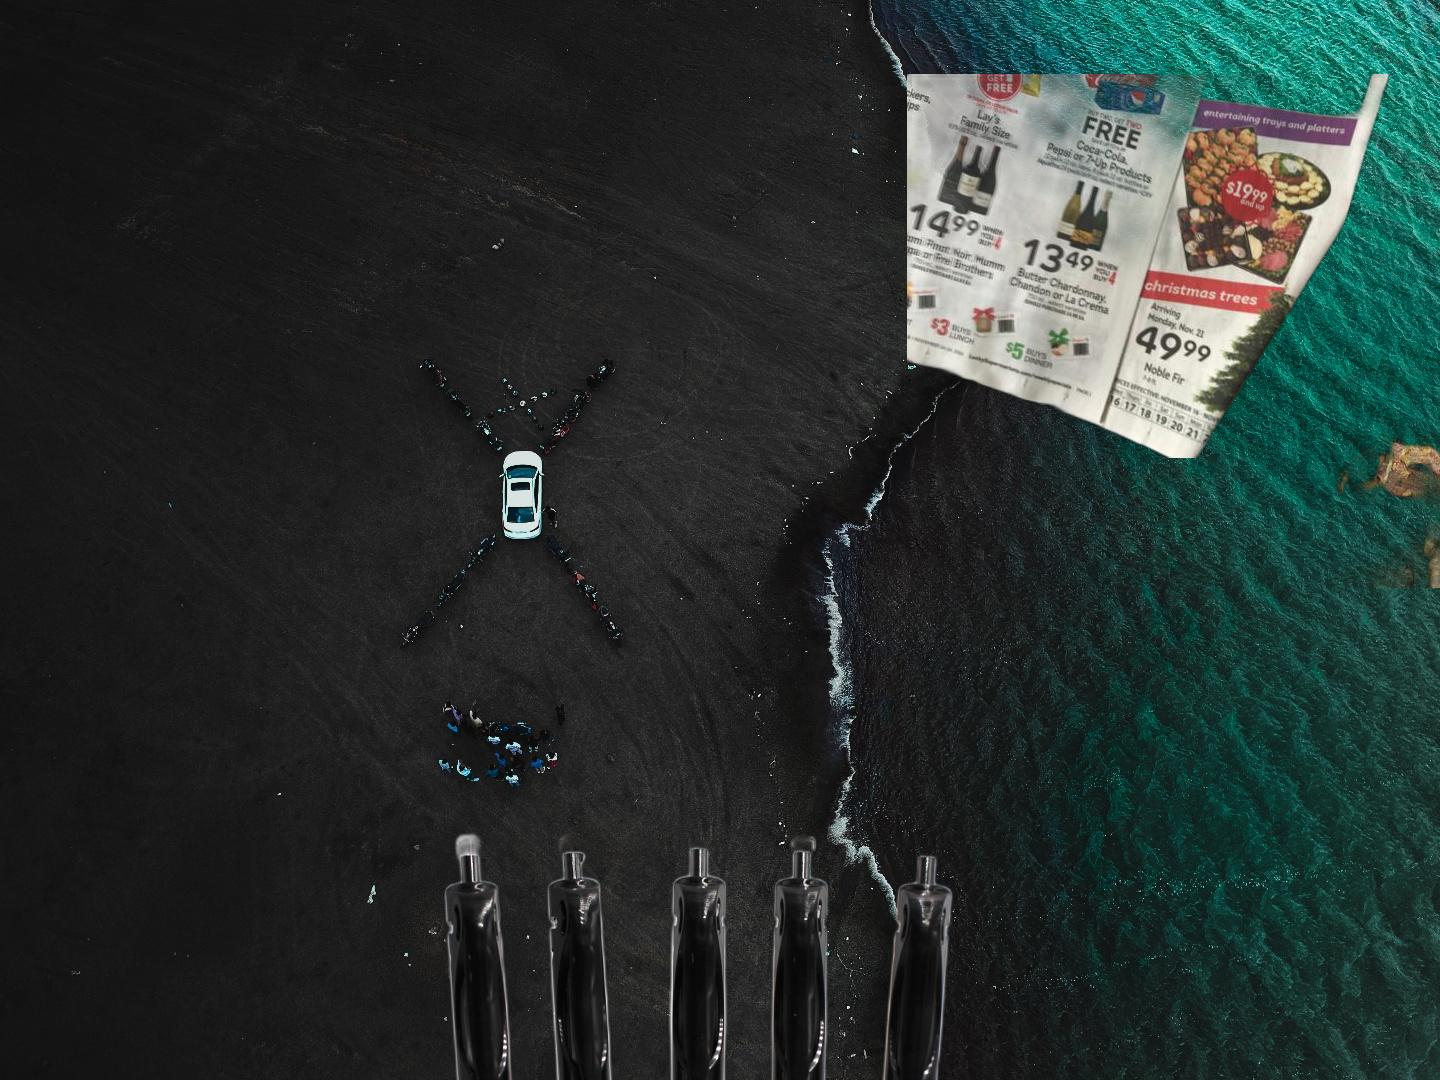biological: (1311, 366, 1440, 588)
paper: (907, 74, 1419, 458)
penholder: (340, 824, 959, 1080)
